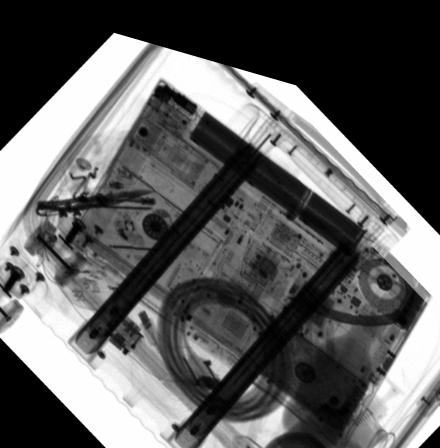Knife: (35, 182, 155, 214)
